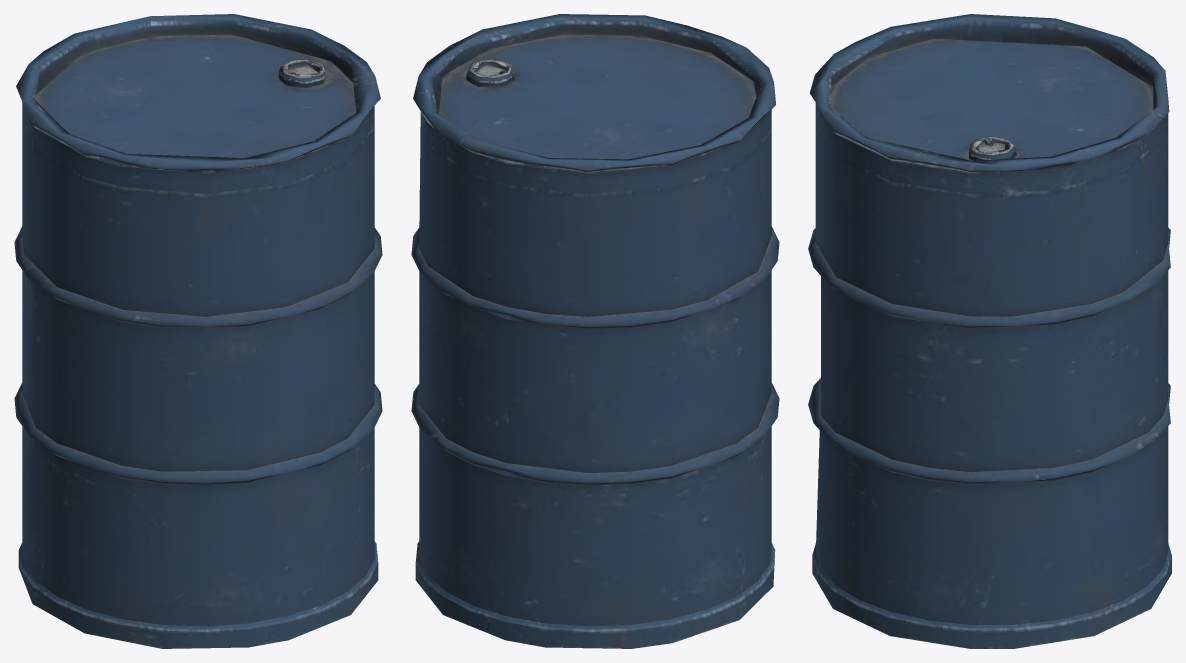
Rendered from barrel.glb.
3 renders of one model, left to right at view 1: azimuth 30°, elevation 25°; view 2: azimuth 150°, elevation 25°; view 3: azimuth 270°, elevation 25°, orthographic.
Visible parts, largest first — view 1: barrel_03; view 2: barrel_03; view 3: barrel_03.
Boxes of the visible parts, left/top/right/bottom form: barrel_03: left=14, top=14, right=382, bottom=648; barrel_03: left=411, top=14, right=779, bottom=648; barrel_03: left=808, top=14, right=1171, bottom=648.
Bounding box in the file's own units: 0.6339 × 0.9305 × 0.6311.
1 material, 1 textured.
